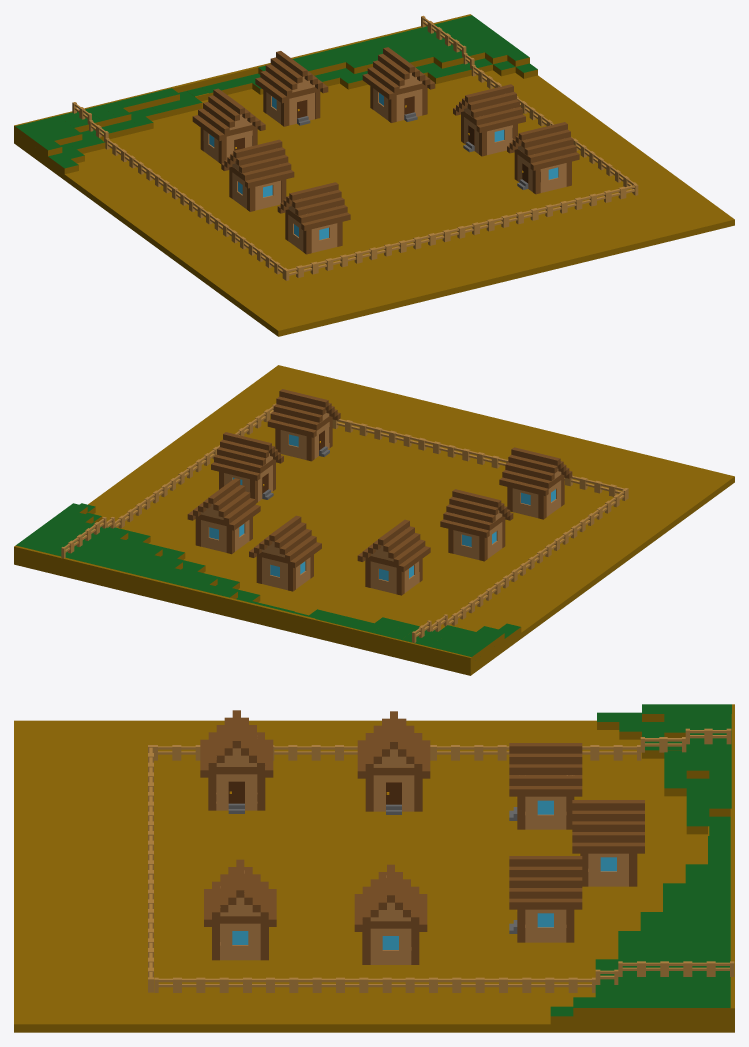
File: ピクセル調フィールド.fbx
The picture shows the model from 3 angles, top to bottom: view 1: azimuth 30°, elevation 25°; view 2: azimuth 150°, elevation 25°; view 3: azimuth 270°, elevation 25°; orthographic projection. The views are drawn at different scales.
Parts seen in each view (by area): view 1: 立方体, 家.004, 家.005, 家.009, 家.001, 柵.003, 家.002, 家.003, 家.006, 柵.001, 柵.002; view 2: 立方体, 家.004, 家.009, 家.005, 家.003, 家.006, 家.002, 家.001, 柵.003, 柵.001, 柵.002, 柵.005; view 3: 立方体, 家.003, 家.006, 家.009, 家.005, 家.002, 家.001, 家.004, 柵.002, 柵.001, 柵.003, 柵.005 (+1 smaller).
Boxes of the visible parts, bbox=[...] form: 立方体: bbox=[14, 14, 734, 336]; 家.004: bbox=[507, 122, 579, 194]; 家.005: bbox=[277, 182, 350, 254]; 家.009: bbox=[221, 139, 294, 211]; 家.001: bbox=[453, 84, 525, 156]; 柵.003: bbox=[284, 183, 638, 280]; 家.002: bbox=[255, 51, 328, 126]; 家.003: bbox=[362, 47, 435, 122]; 家.006: bbox=[192, 88, 265, 163]; 柵.001: bbox=[105, 138, 286, 278]; 柵.002: bbox=[471, 65, 636, 193]; 立方体: bbox=[14, 365, 734, 675]; 家.004: bbox=[267, 389, 340, 461]; 家.009: bbox=[440, 489, 513, 561]; 家.005: bbox=[499, 447, 572, 519]; 家.003: bbox=[187, 478, 260, 554]; 家.006: bbox=[357, 519, 430, 595]; 家.002: bbox=[249, 515, 321, 591]; 家.001: bbox=[211, 432, 283, 503]; 柵.003: bbox=[275, 403, 628, 499]; 柵.001: bbox=[445, 489, 626, 626]; 柵.002: bbox=[115, 404, 275, 528]; 柵.005: bbox=[61, 517, 106, 558]; 立方体: bbox=[14, 704, 734, 1032]; 家.003: bbox=[509, 856, 582, 942]; 家.006: bbox=[509, 743, 582, 829]; 家.009: bbox=[357, 711, 430, 814]; 家.005: bbox=[200, 710, 273, 813]; 家.002: bbox=[572, 800, 644, 886]; 家.001: bbox=[354, 864, 427, 964]; 家.004: bbox=[204, 859, 276, 960]; 柵.002: bbox=[154, 977, 596, 992]; 柵.001: bbox=[153, 745, 641, 760]; 柵.003: bbox=[148, 745, 153, 992]; 柵.005: bbox=[618, 961, 734, 976].
Size of the model in its own units: 320 by 41.94 by 321.
